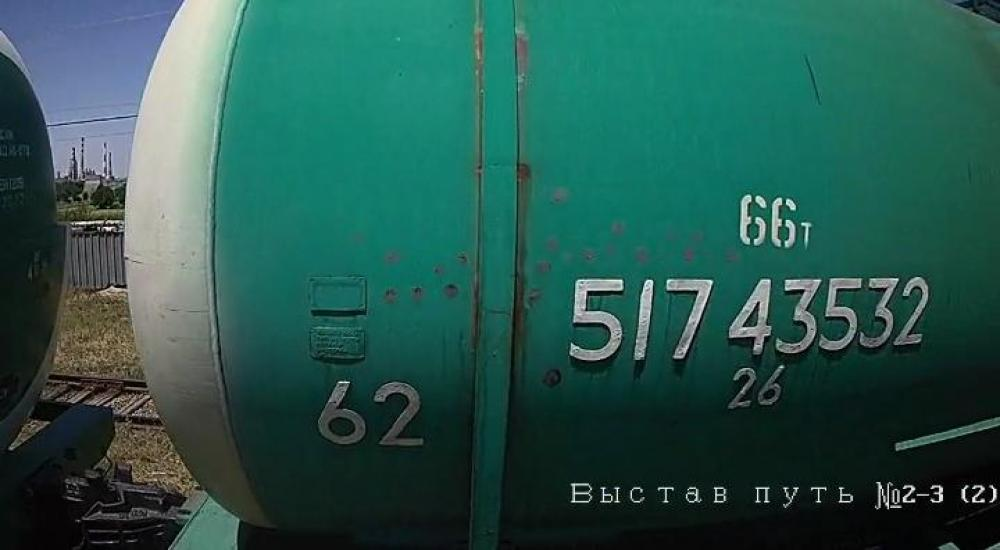Wagon-number: (562, 272, 937, 365)
